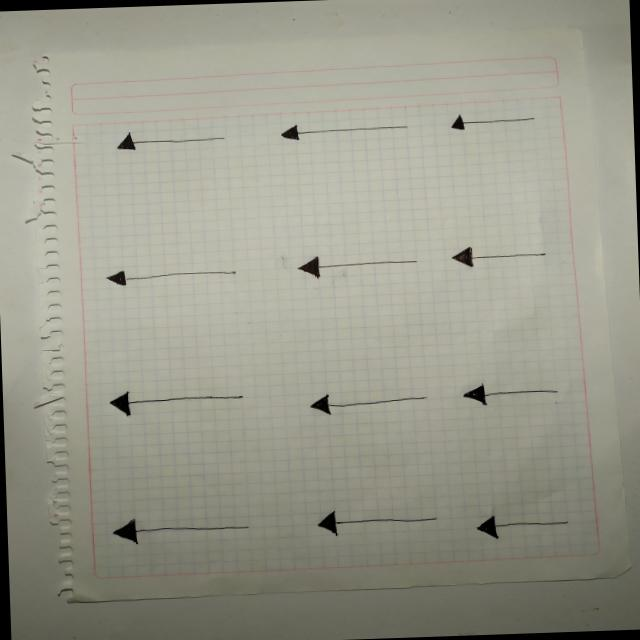arrow_line_left: (306, 499, 452, 546), (94, 382, 264, 422), (97, 510, 256, 550), (266, 116, 424, 150), (90, 260, 248, 294), (283, 244, 422, 282), (296, 388, 441, 419), (99, 120, 226, 154), (439, 238, 551, 276), (448, 376, 572, 410), (468, 508, 582, 542), (442, 109, 546, 133)
